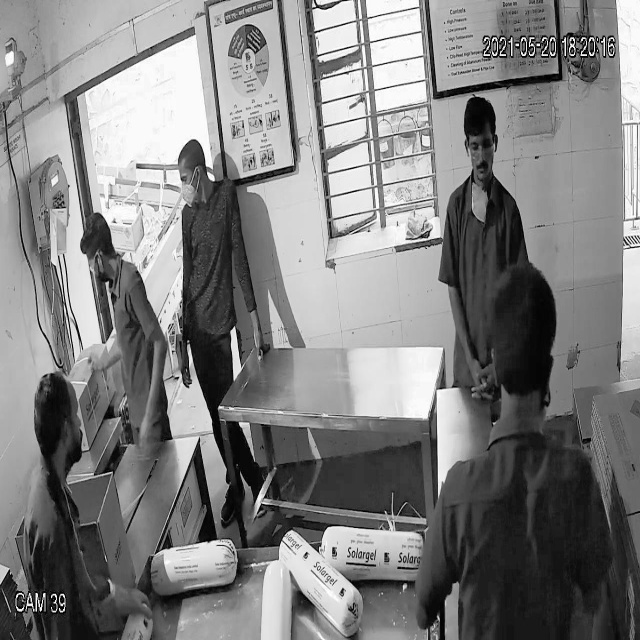Gafas: (461, 133, 499, 161)
